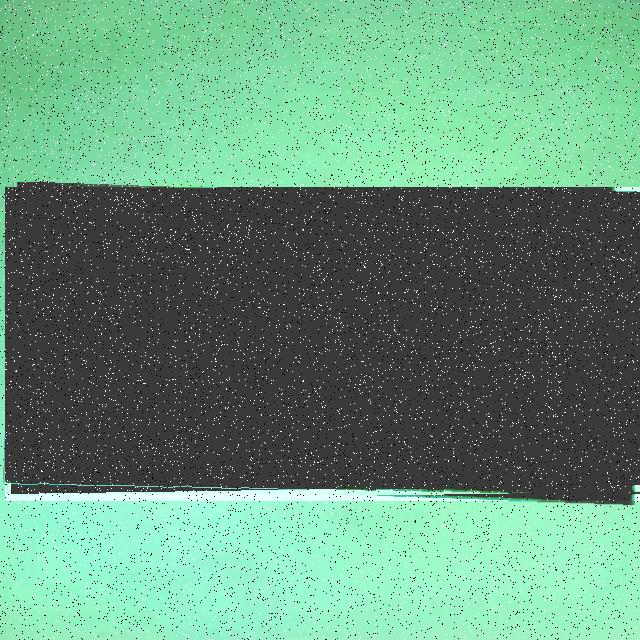lima puluh ribu rupiah: (5, 187, 640, 501)
